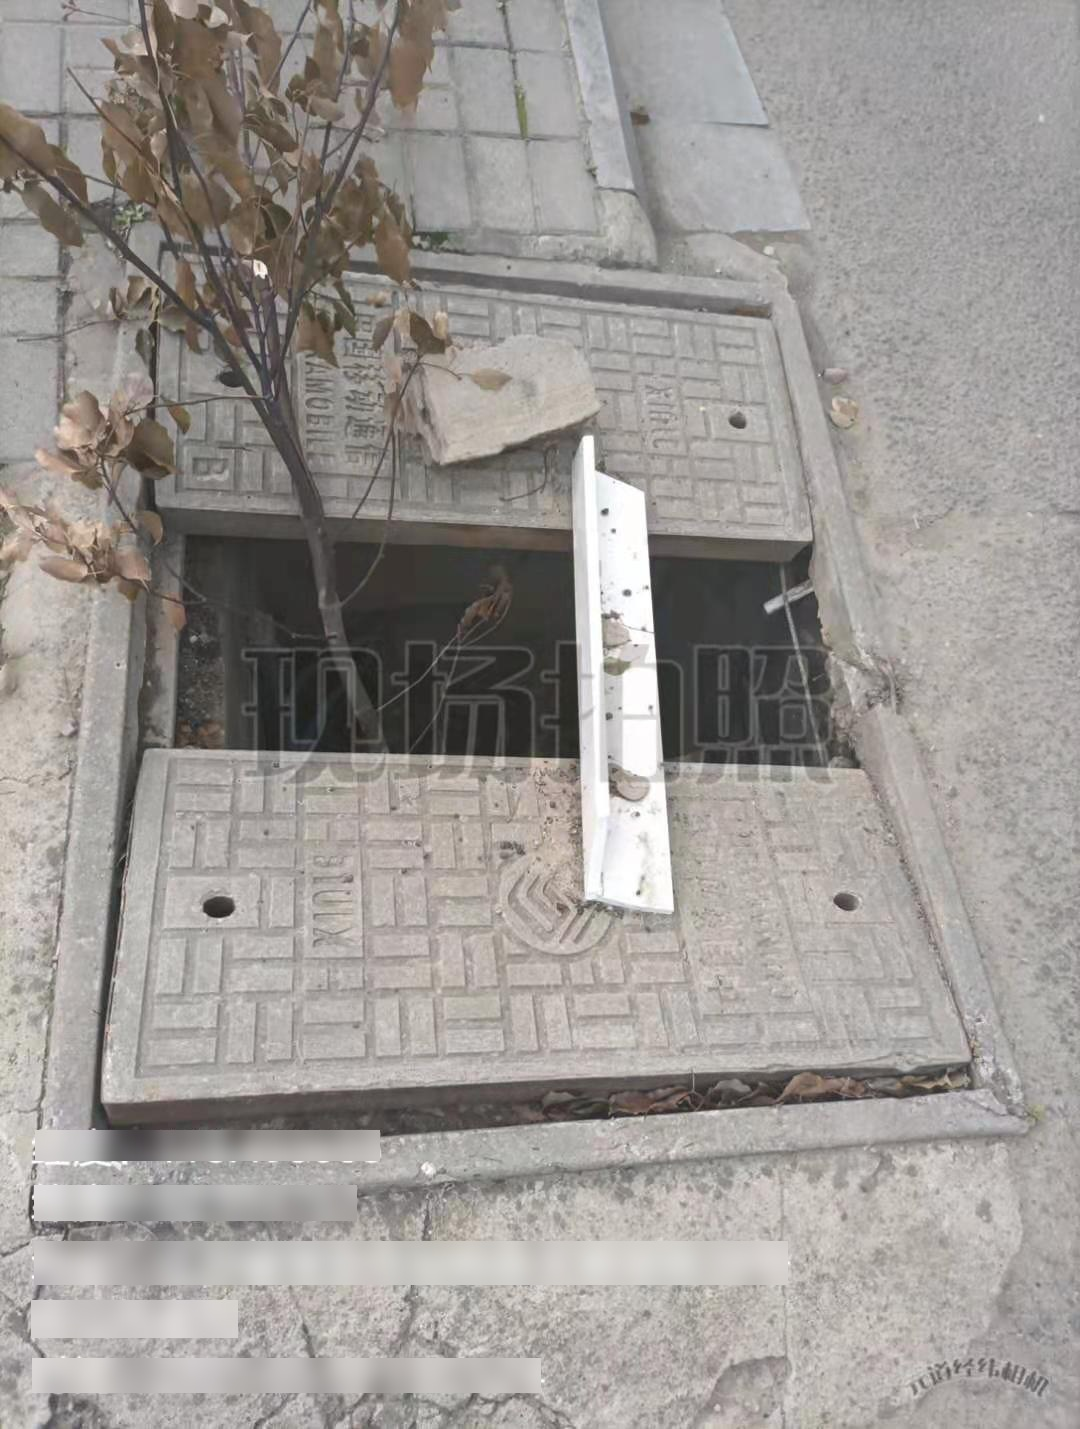lose: (29, 218, 1036, 1226)
